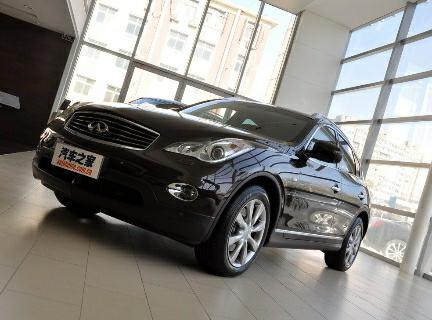car: (25, 73, 380, 286)
